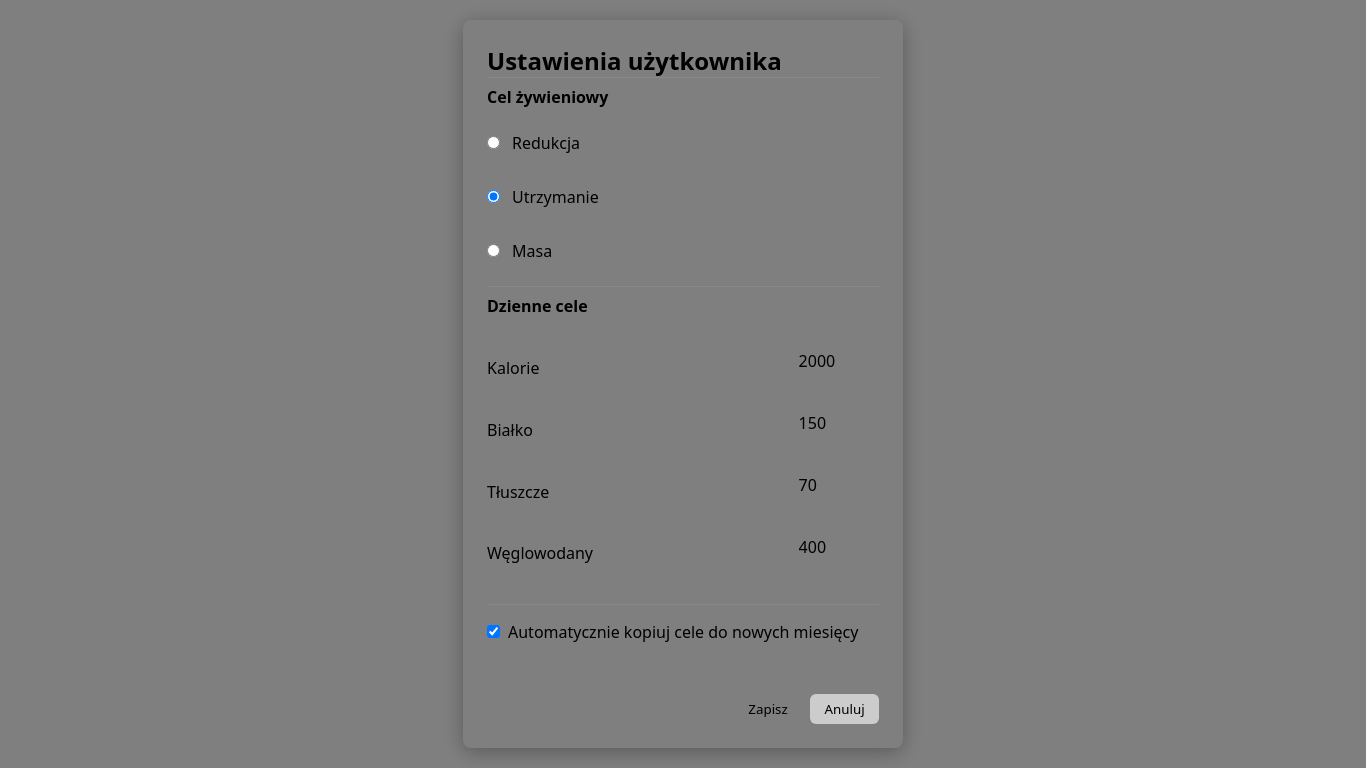
Test: UserSettingsModal frontend validation › shows error when only some targets are null
Expected: the radio button labelled "Utrzymanie" is checked, [487, 190, 500, 203]
Clear the number field labelled "Kalorie" at (834, 361), box [789, 344, 879, 379]
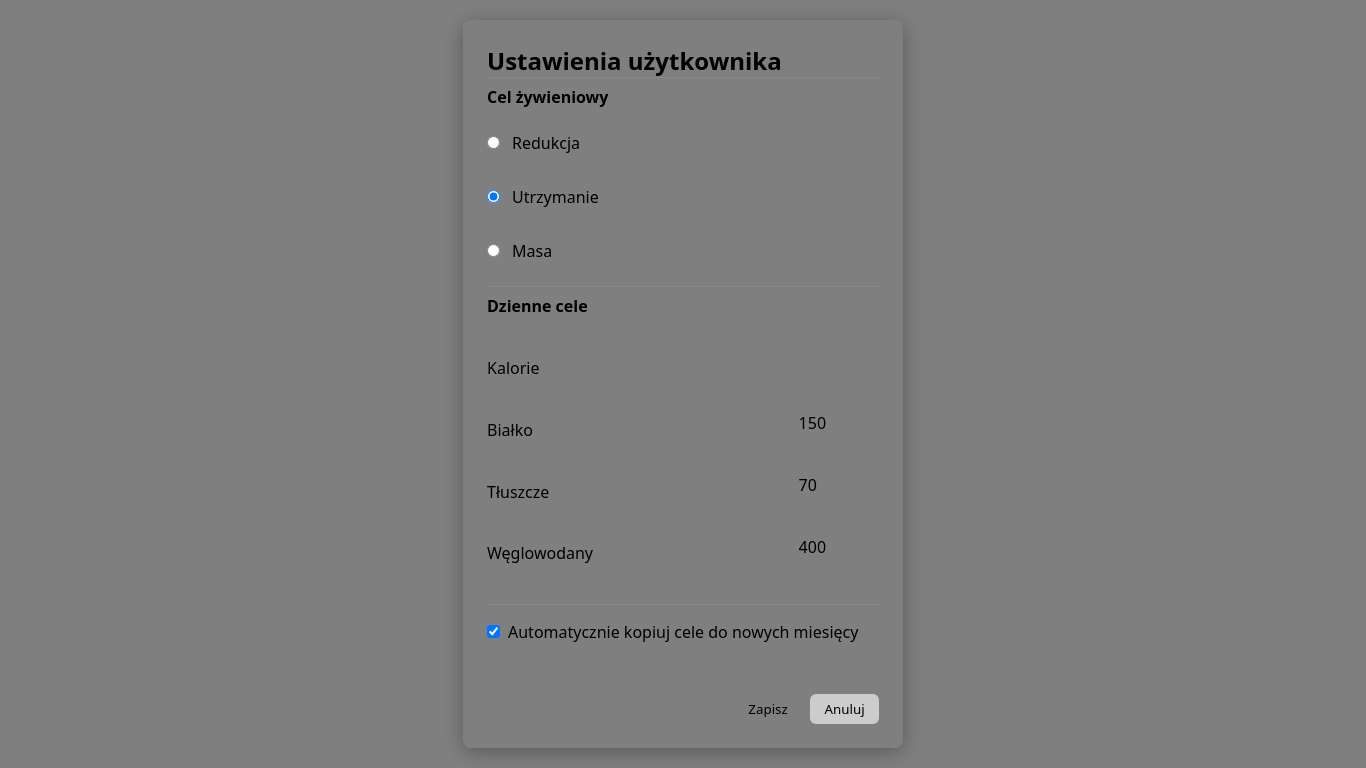
Click the button "Zapisz" at (768, 709), box [734, 694, 802, 724]
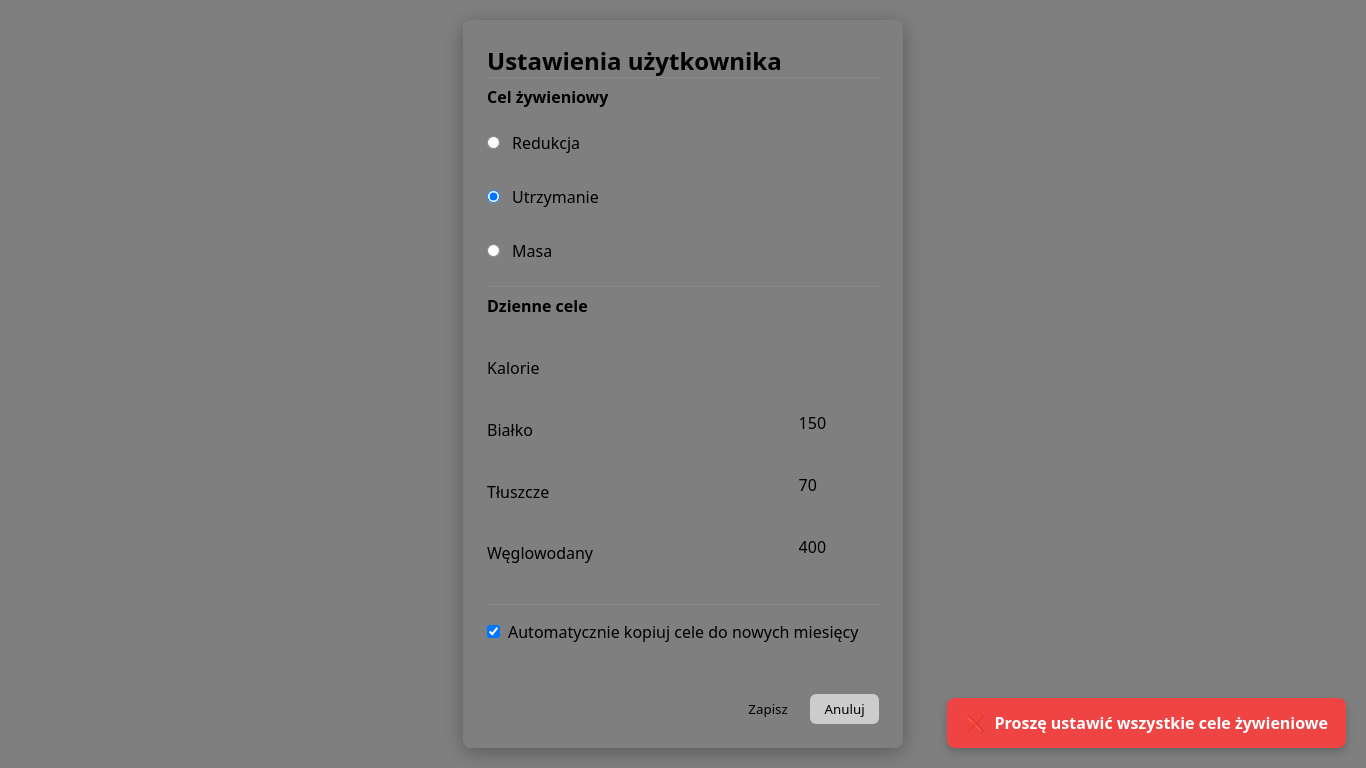
Expected: the text "Proszę ustawić wszystkie cele żywieniowe" is shown, [995, 712, 1328, 734]
